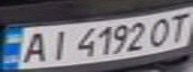1: (93, 24, 115, 56)
2: (124, 18, 154, 52)
4: (72, 25, 96, 58)
9: (109, 21, 133, 55)
A: (15, 29, 54, 64)
I: (42, 27, 72, 62)
O: (145, 14, 175, 47)
T: (163, 9, 193, 43)
